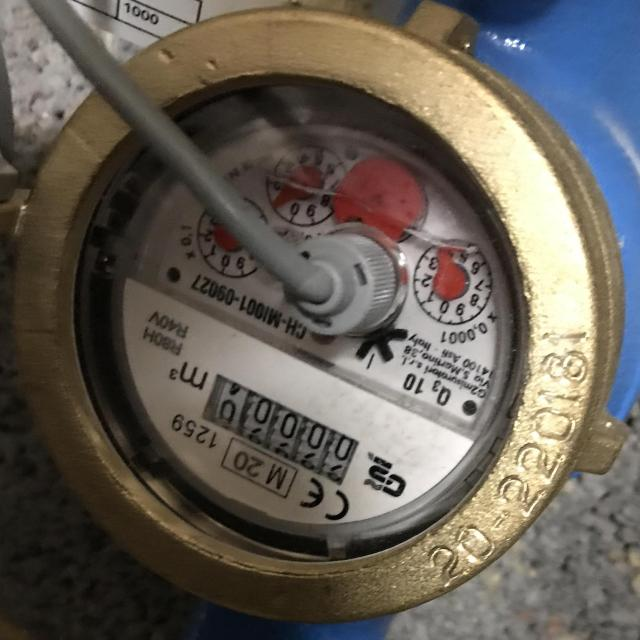gaz_meter: (113, 109, 516, 528)
indication: (197, 374, 367, 491)
